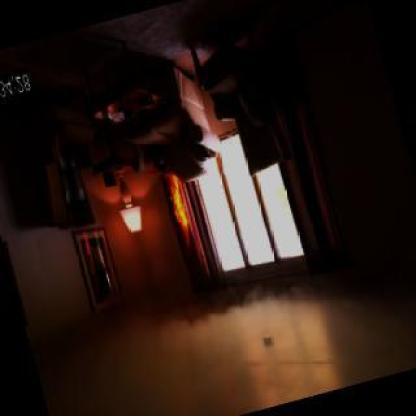Fire: (165, 178, 195, 252)
